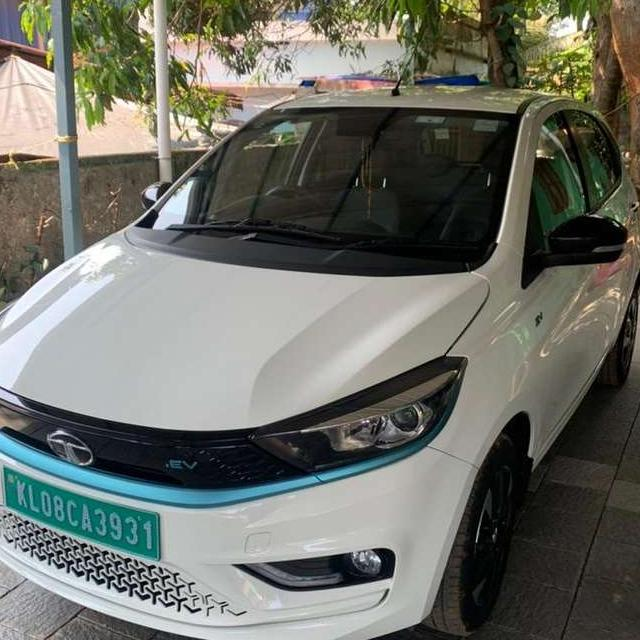Indian_Number_Plate: (4, 469, 160, 561)
